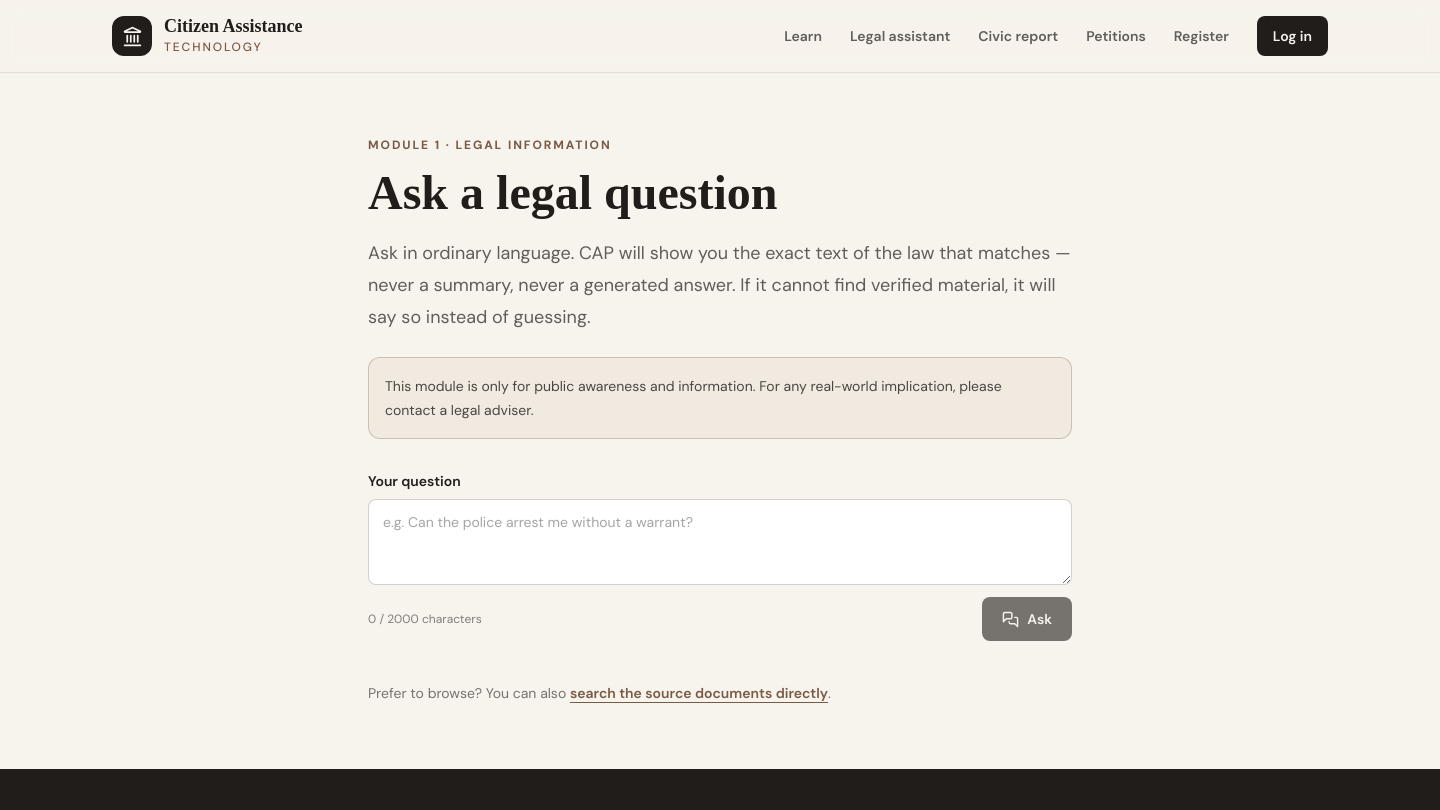
LegalAssistantPage › displays the citation, section and official source for each excerpt
This screenshot has width=1440, height=810.
Type "Can a woman be arrested at night?" into the text box labelled "Your question" at [720, 542], box x1=368 y1=499 x2=1072 y2=585
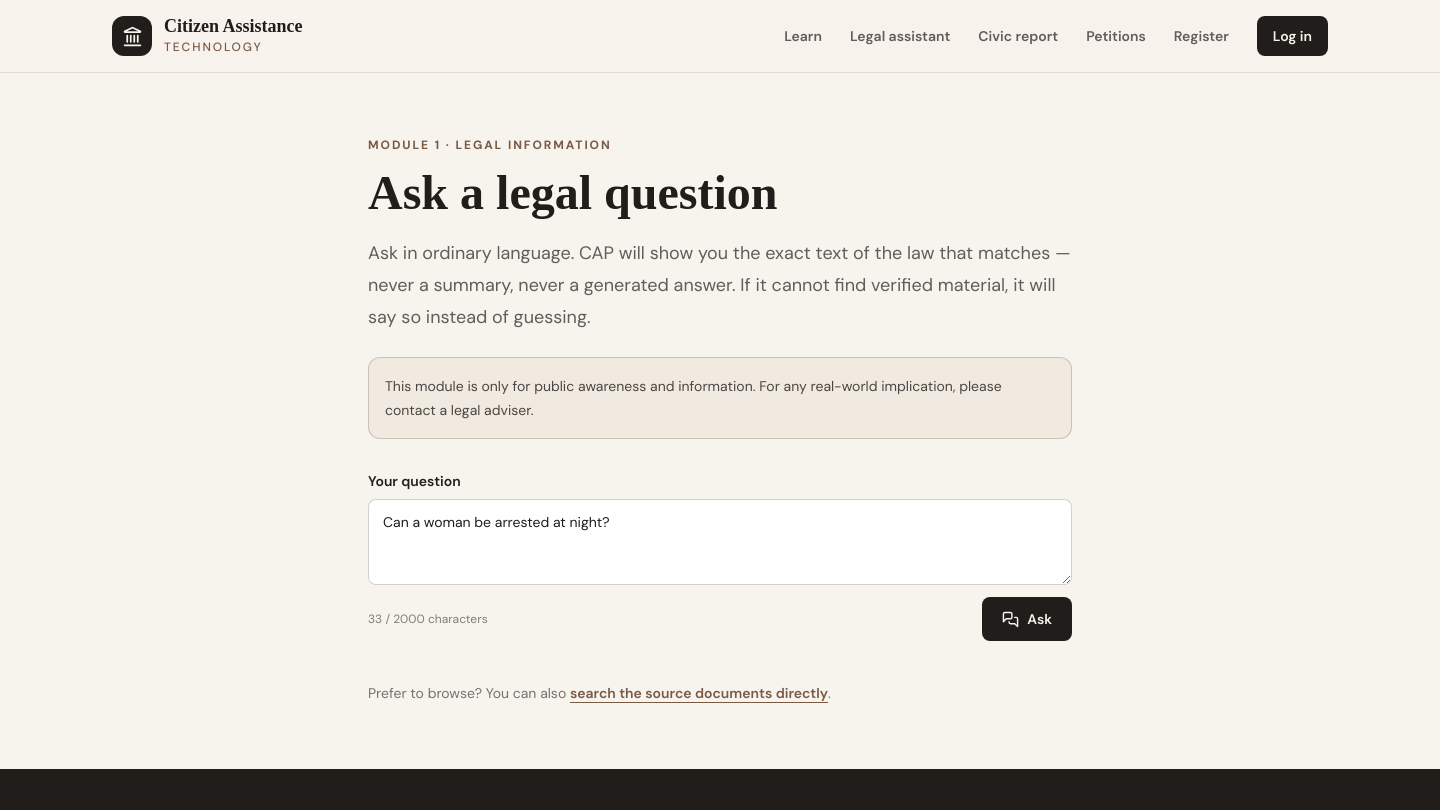
Click the button "Ask" at [1027, 619], box x1=982 y1=597 x2=1072 y2=641
(page scrolled)
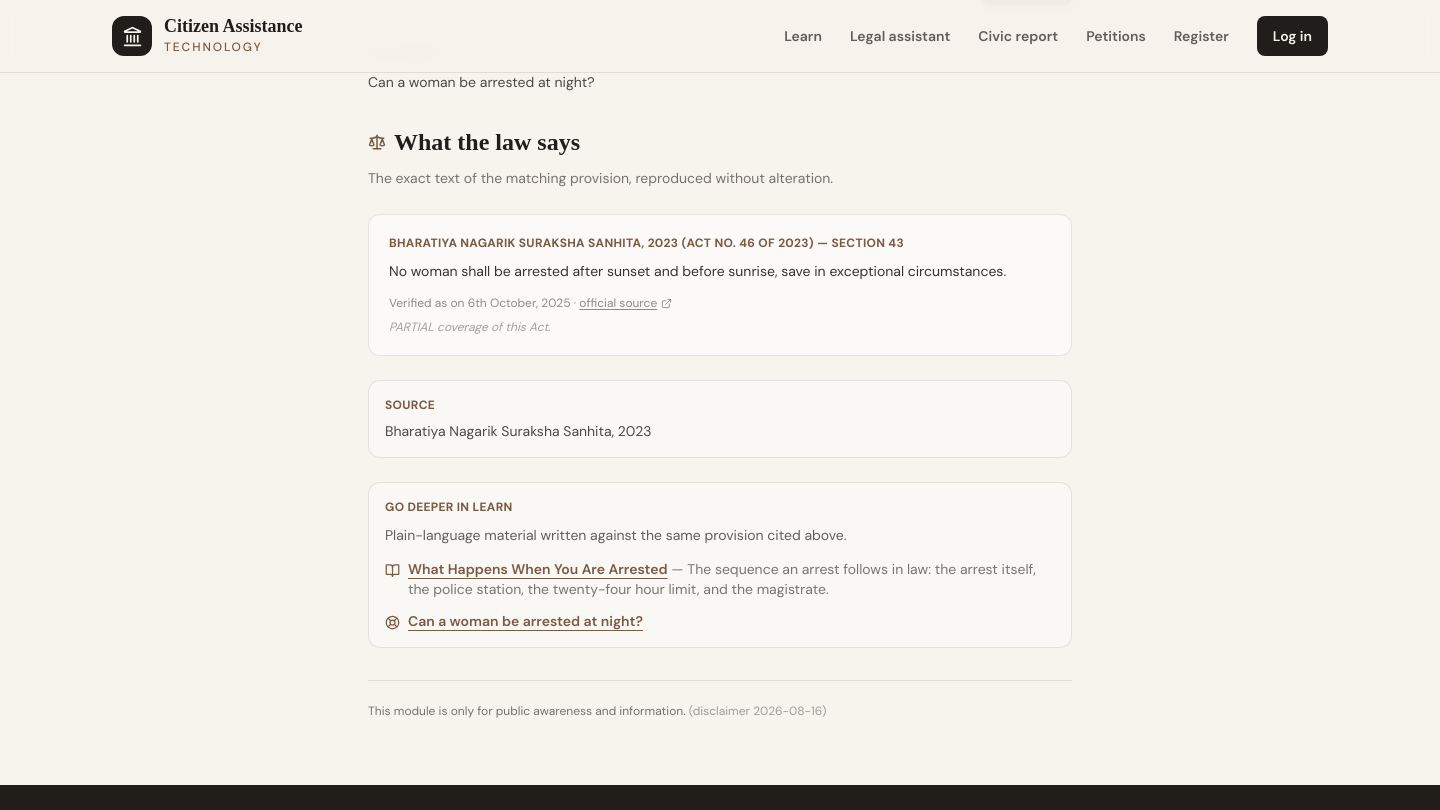
Expected: the heading "What the law says" is shown, x1=394 y1=126 x2=580 y2=158
Expected: the text "ACT NO. 46 OF 2023" is shown, x1=678 y1=235 x2=814 y2=251
Expected: the text "Section 43" is shown, x1=832 y1=235 x2=904 y2=251
